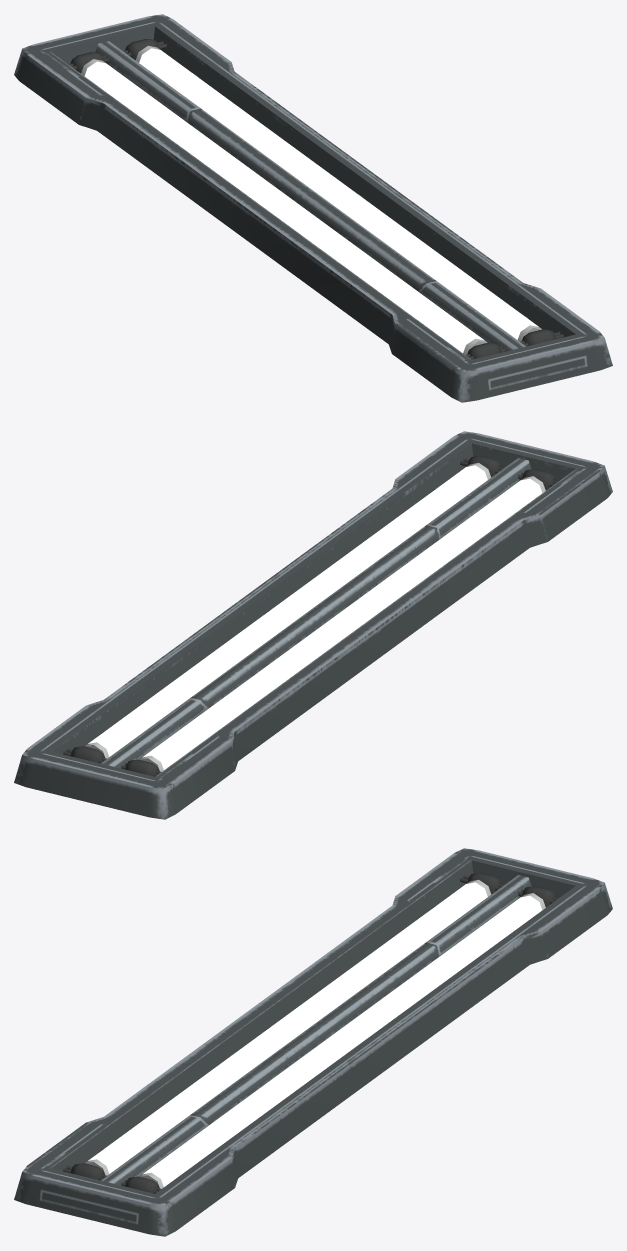
The model's file is scifi_light_04.glb.
3 views of the same model, one above another, from view 1: azimuth 30°, elevation 25°; view 2: azimuth 150°, elevation 25°; view 3: azimuth 330°, elevation 25° (orthographic).
Visible parts, largest first — view 1: Light_04_Material #39_0, Light_04_Material #38_0; view 2: Light_04_Material #39_0, Light_04_Material #38_0; view 3: Light_04_Material #39_0, Light_04_Material #38_0.
Part boxes in pixels (<box>): Light_04_Material #39_0: <box>14,14,612,402</box>; Light_04_Material #38_0: <box>84,48,538,352</box>; Light_04_Material #39_0: <box>14,431,612,819</box>; Light_04_Material #38_0: <box>88,465,542,769</box>; Light_04_Material #39_0: <box>14,848,612,1236</box>; Light_04_Material #38_0: <box>88,882,542,1186</box>.
Size of the model in its own units: 30 by 5 by 150.
2 materials, 1 textured.
